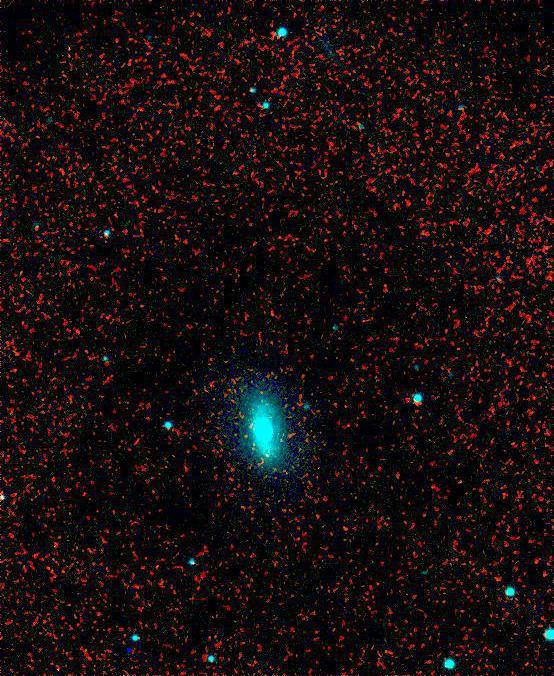star: (310, 457, 340, 487)
